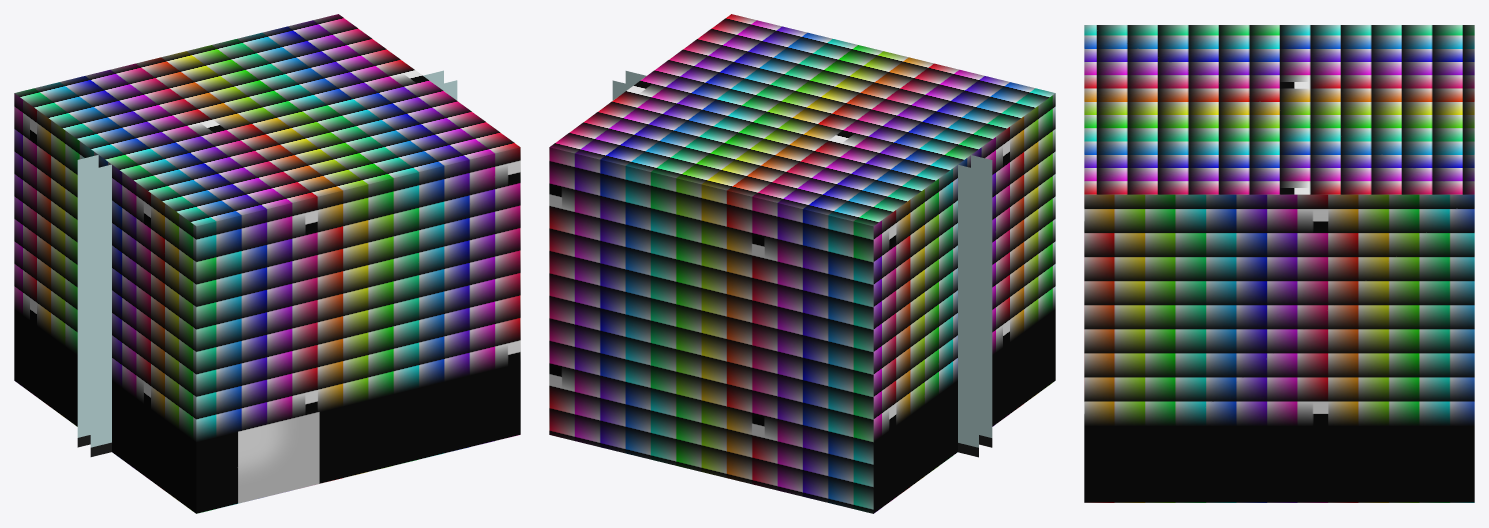
The model's file is door_4.fbx.
3 renders of one model, left to right at view 1: azimuth 30°, elevation 25°; view 2: azimuth 150°, elevation 25°; view 3: azimuth 270°, elevation 25°, orthographic. The views are drawn at different scales.
Parts seen in each view (by area): view 1: door_4_trigger, door_4_1; view 2: door_4_trigger, door_4_1; view 3: door_4_trigger.
Boxes of the visible parts, <box> form: door_4_trigger: <box>14,14,520,513</box>; door_4_1: <box>77,70,457,456</box>; door_4_trigger: <box>549,14,1055,513</box>; door_4_1: <box>612,71,992,457</box>; door_4_trigger: <box>1084,25,1474,502</box>.
Size of what is drawn, in the model's own units: 400 by 300 by 344.
